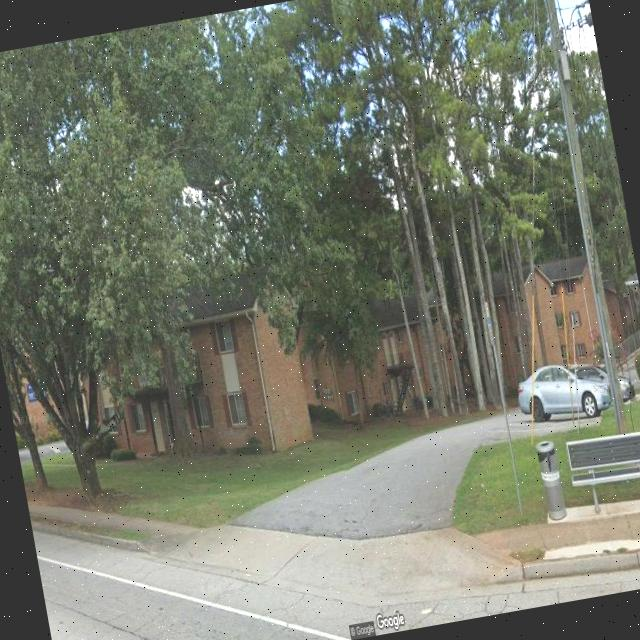seating: (564, 424, 640, 519)
trash_can: (534, 440, 568, 522)
